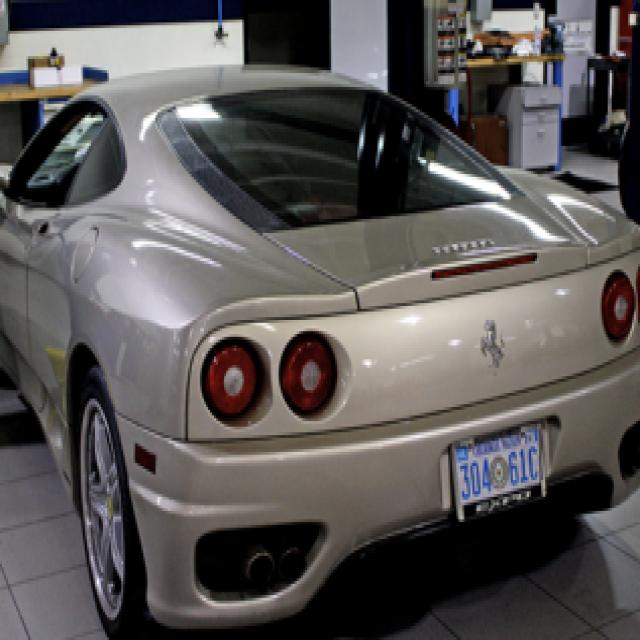license_plate: (454, 446, 547, 500)
